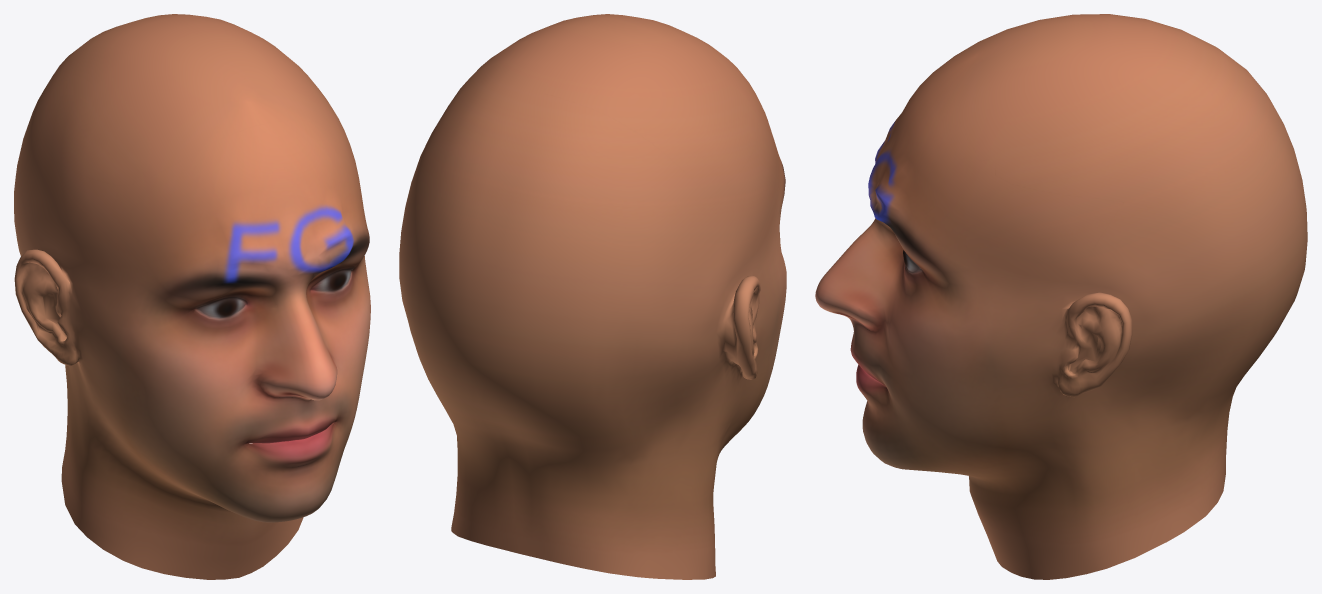
The model's file is avg_southasian_male.obj.
3 renders of one model, left to right at view 1: azimuth 30°, elevation 25°; view 2: azimuth 150°, elevation 25°; view 3: azimuth 270°, elevation 25°, orthographic. The views are drawn at different scales.
Visible parts, largest first — view 1: HeadHires; view 2: HeadHires; view 3: HeadHires.
Boxes of the visible parts, x1,y1,x2,y2 form: HeadHires: (14, 14, 370, 579); HeadHires: (399, 14, 786, 579); HeadHires: (815, 14, 1307, 579).
Size of the model in its own units: 187 by 283 by 240.
1 material, 1 textured.
